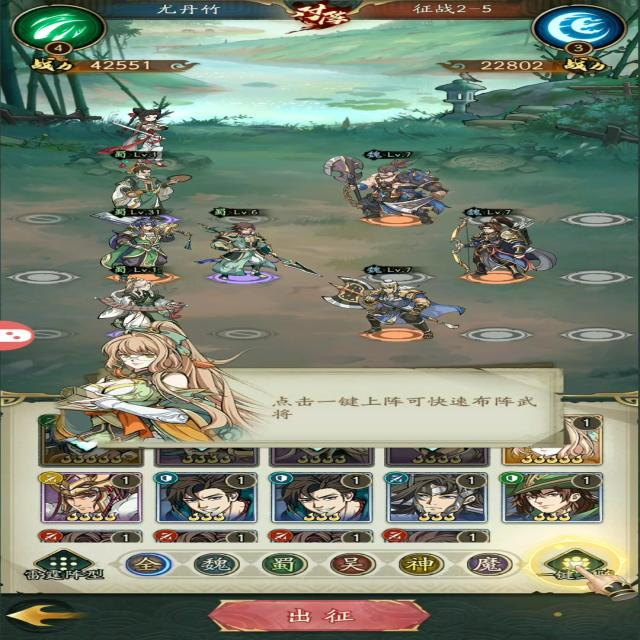hint-guide: (53, 322, 551, 454)
operation-back: (4, 600, 113, 637)
operation-camp: (118, 547, 178, 583), (462, 551, 512, 582), (259, 550, 308, 580), (393, 550, 441, 580), (188, 551, 241, 578), (328, 551, 381, 578)
operation-enter: (198, 599, 432, 636)
operation-formation: (18, 548, 106, 586)
operation-inLineup: (496, 415, 614, 466), (148, 413, 253, 469), (32, 474, 148, 519), (46, 412, 142, 463), (389, 413, 480, 464)
operation-oneKeyDeployment: (536, 545, 620, 586)
operation-outLineup: (494, 471, 612, 526), (379, 470, 492, 525), (269, 410, 377, 467), (265, 473, 373, 526), (160, 470, 251, 521)
